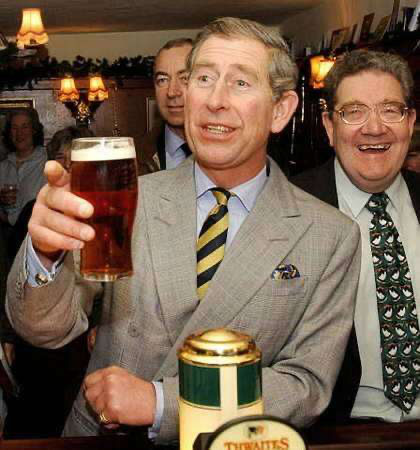Face: (180, 38, 276, 167), (337, 71, 412, 189), (149, 43, 200, 132), (7, 110, 40, 155)
